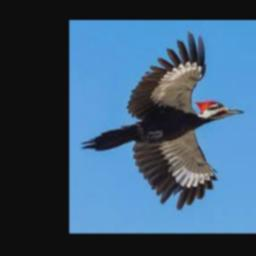Woodpecker: (81, 29, 245, 210)
